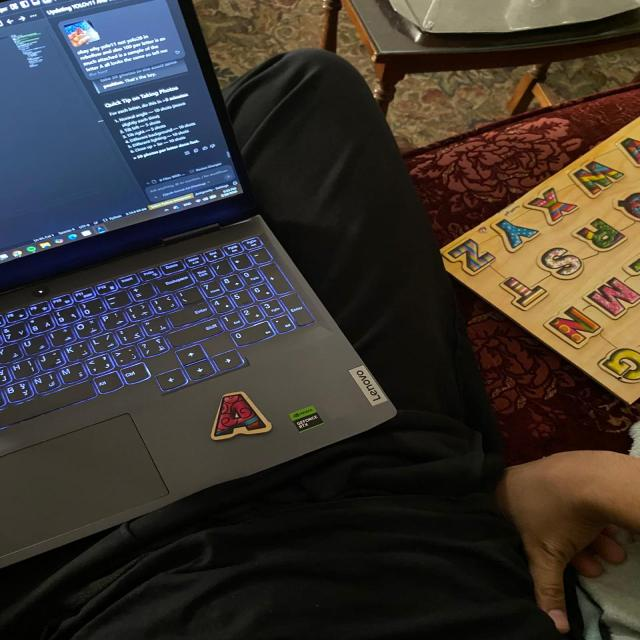A: (211, 392, 271, 440)
